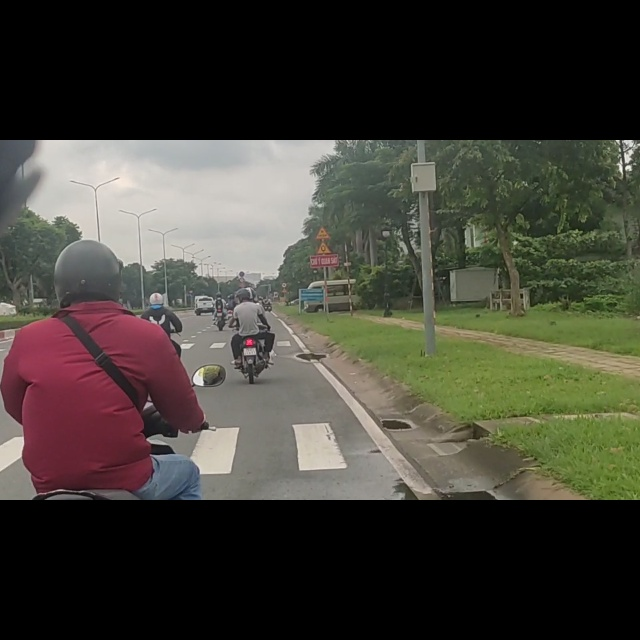bien_cam: (316, 181, 333, 203), (315, 154, 331, 177), (239, 233, 245, 244)
